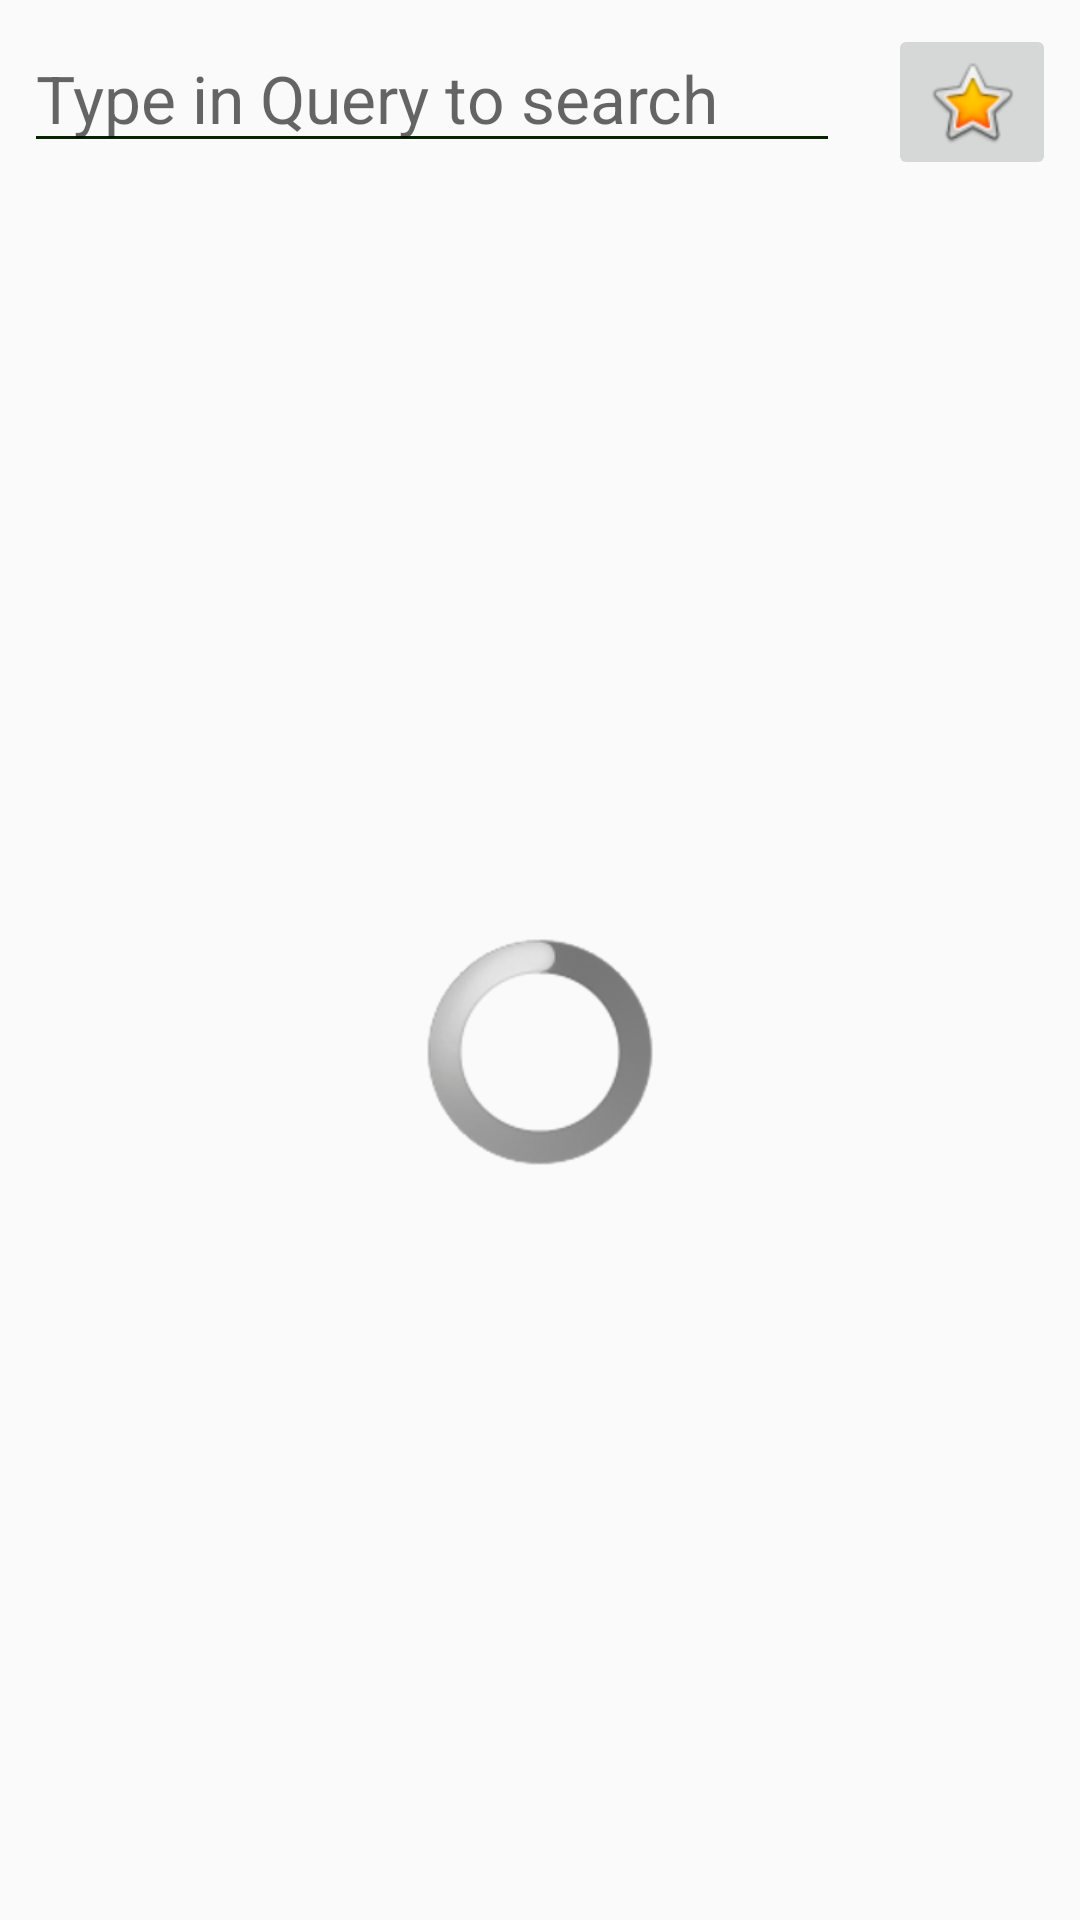

Screen size 1080px x 1920px. Icon name, then its box in pixels as (x1, y1, x2, y2):
star on: (900, 42, 1044, 162)
